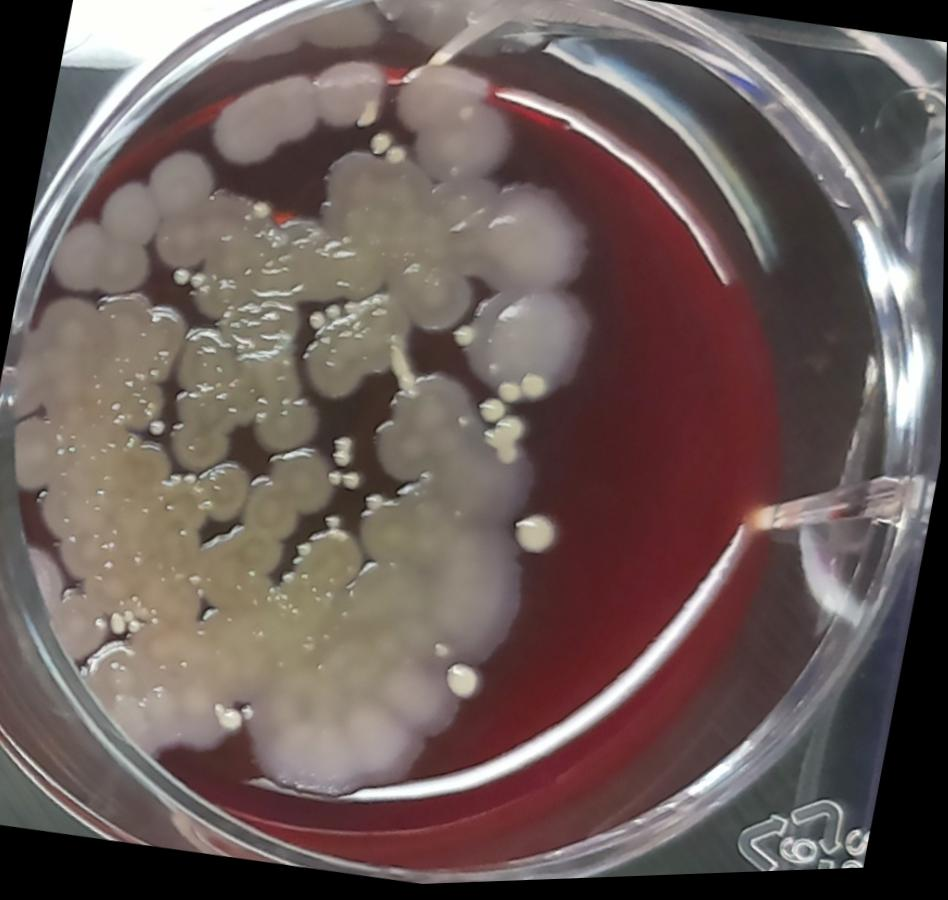staphylo-: (506, 506, 563, 566), (477, 411, 529, 471), (439, 658, 488, 712), (210, 699, 248, 739), (514, 370, 551, 405), (474, 396, 509, 431), (328, 431, 356, 471), (365, 126, 394, 160), (449, 323, 479, 355), (492, 379, 523, 407), (380, 145, 408, 172), (303, 309, 330, 337), (147, 417, 171, 442), (323, 512, 346, 536), (170, 264, 192, 289), (341, 470, 363, 494), (323, 302, 345, 325), (363, 492, 385, 514), (324, 468, 345, 491), (293, 541, 315, 562), (187, 272, 208, 292), (240, 704, 258, 723)
